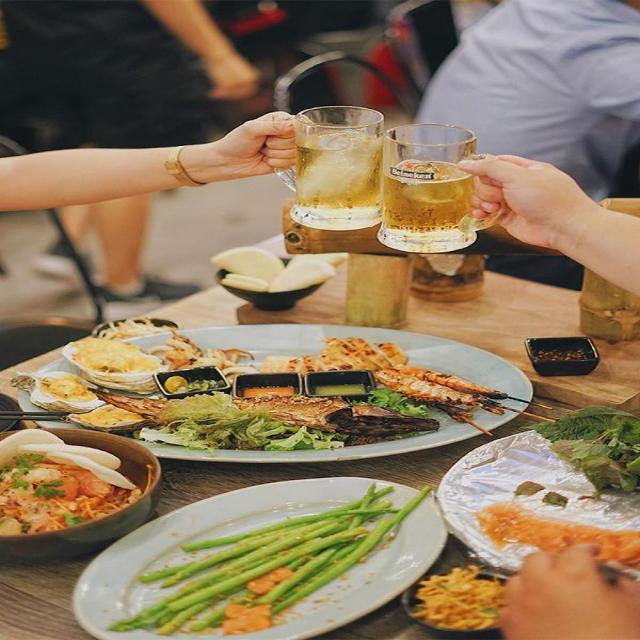banh phong tom: (202, 246, 334, 297)
bia: (377, 122, 483, 254), (280, 101, 384, 229)
hau nuong mo hanh: (63, 334, 157, 378), (19, 367, 91, 415), (74, 404, 153, 436), (308, 326, 326, 334)
la ghim: (109, 484, 432, 640)
muc nuong: (172, 335, 411, 369)
tom nuong: (376, 363, 536, 424)
